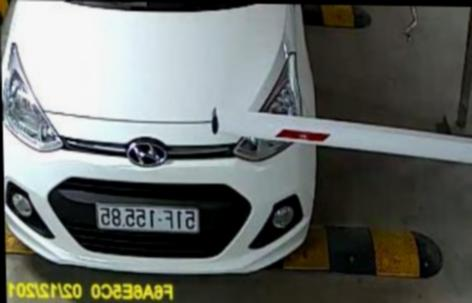License_Plate: (93, 199, 200, 238)
